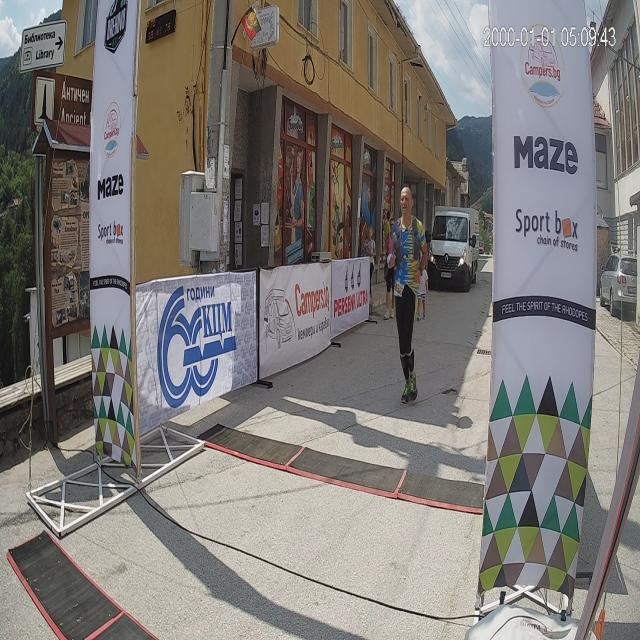runner: (366, 167, 431, 416)
